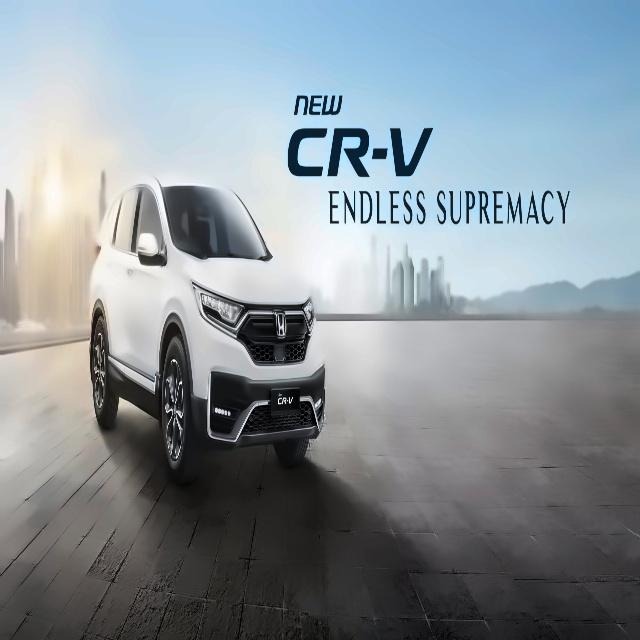Car hood: (165, 244, 313, 311)
Driver-s door - -F-R-: (115, 160, 171, 426)
Fender - -F-R-: (140, 231, 211, 385)
Front bumper: (181, 327, 333, 456)
Headlight - -L-: (301, 297, 320, 335)
Headlight - -R-: (189, 280, 247, 338)
Passenger-s door - -R-R-: (100, 170, 145, 397)
Side bumper - -R-: (102, 349, 159, 431)
Side mirror - -R-: (131, 230, 167, 275)
